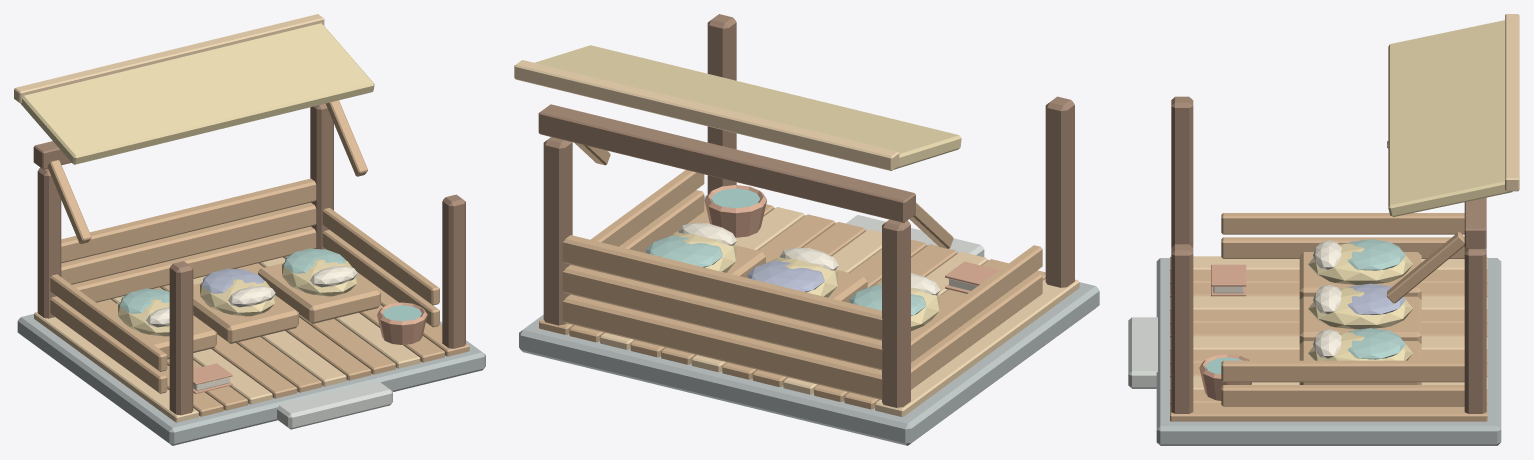
Rendered from elder_corner.fbx.
3 views of the same model, side by side, from view 1: azimuth 30°, elevation 25°; view 2: azimuth 150°, elevation 25°; view 3: azimuth 270°, elevation 25° (orthographic). The views are drawn at different scales.
Parts seen in each view (by area): view 1: elder_corner_mesh; view 2: elder_corner_mesh; view 3: elder_corner_mesh.
Part boxes in pixels (box(x1,y1,x2,y2)): elder_corner_mesh: box(14, 14, 485, 445); elder_corner_mesh: box(514, 14, 1099, 445); elder_corner_mesh: box(1128, 14, 1519, 445).
Size of the model in its own units: 3.32 by 2.4 by 3.2.
